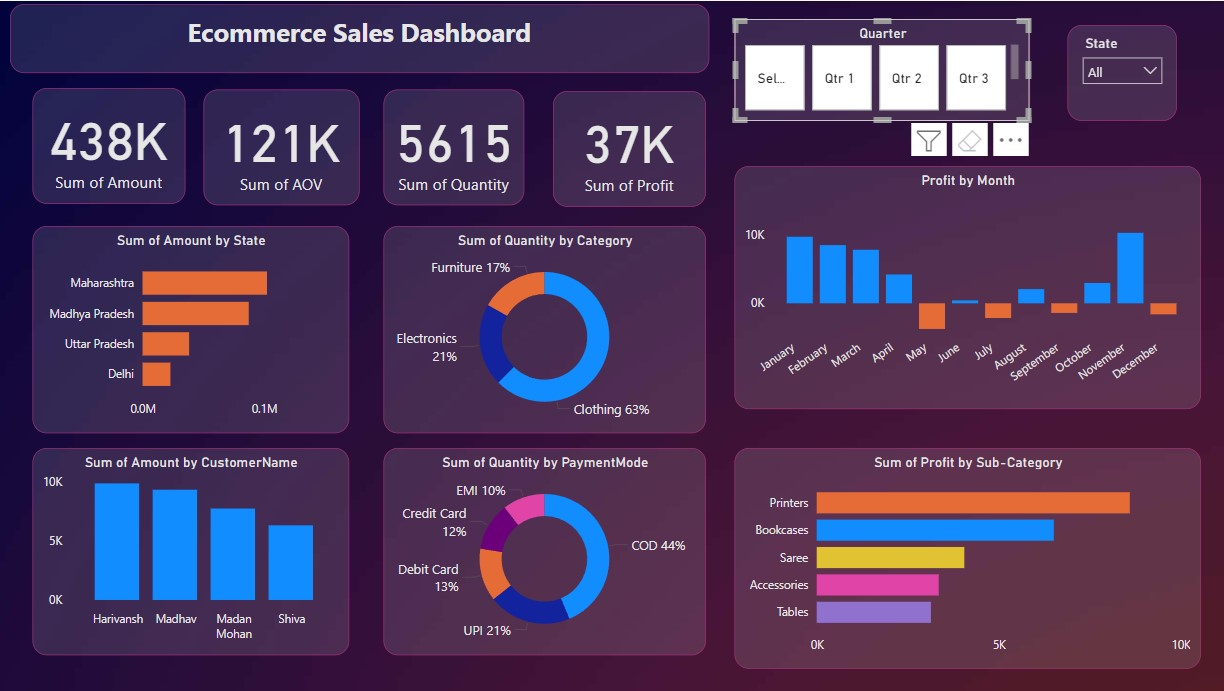

The page's visual inventory and layout, read from the dashboard file:
{"tool":"powerbi","page":{"name":"Page 1","canvas":[1280,720],"ordinal":0},"visuals":[{"type":"textbox","box":[12.5,3.1,728.4,71.9],"z":0},{"type":"columnChart","title":"Profit by Month","fields":{"Y":["Details.Profit"],"Category":["Orders.Order Date.Variation.Date Hierarchy.Month"]},"box":[767.4,171.9,486.1,253.2],"z":1000},{"type":"barChart","fields":{"Category":["Details.Sub-Category"],"Y":["Details.Profit"]},"box":[767.4,465.8,486.1,229.8],"z":2000},{"type":"donutChart","fields":{"Category":["Details.Category"],"Y":["Details.Quantity"]},"box":[401.7,235,336,215.7],"z":3000},{"type":"donutChart","fields":{"Category":["Details.PaymentMode"],"Y":["Details.Quantity"]},"box":[401.7,465.8,336,215.7],"z":4000},{"type":"card","fields":{"Values":["Details.Amount"]},"box":[35.9,90.7,159.4,120.4],"z":5000},{"type":"card","fields":{"Values":["Details.Profit"]},"box":[578.3,93.8,159.4,120.4],"z":6000},{"type":"card","fields":{"Values":["Details.Quantity"]},"box":[401.7,92.2,146.9,120.4],"z":7000},{"type":"card","fields":{"Values":["Details.AOV"]},"box":[214.1,92.2,162.6,120.4],"z":8000},{"type":"barChart","fields":{"Category":["Orders.State"],"Y":["Details.Amount"]},"box":[35.9,234.4,329.8,215.7],"z":9000},{"type":"columnChart","fields":{"Category":["Orders.CustomerName"],"Y":["Details.Amount"]},"box":[35.9,465.8,329.8,215.7],"z":10000},{"type":"advancedSlicerVisual","fields":{"Values":["Orders.Order Date.Variation.Date Hierarchy.Quarter"]},"box":[767.4,18.8,307.9,106.3],"z":11000},{"type":"slicer","fields":{"Values":["Orders.State"]},"box":[1114.4,25,114.1,100],"z":11002}]}

Visuals, with their boxes in screenshot pixels (x1, y1, x2, y2), scaled from the page's 1280x720 canvas onto the 1224x691 screenshot:
textbox: <region>12, 3, 708, 72</region>
"Profit by Month" columnChart: <region>734, 165, 1199, 408</region>
barChart - Details.Sub-Category x Details.Profit: <region>734, 447, 1199, 668</region>
donutChart - Details.Category x Details.Quantity: <region>384, 226, 705, 433</region>
donutChart - Details.PaymentMode x Details.Quantity: <region>384, 447, 705, 654</region>
card - Details.Amount: <region>34, 87, 187, 203</region>
card - Details.Profit: <region>553, 90, 705, 206</region>
card - Details.Quantity: <region>384, 88, 525, 204</region>
card - Details.AOV: <region>205, 88, 360, 204</region>
barChart - Orders.State x Details.Amount: <region>34, 225, 350, 432</region>
columnChart - Orders.CustomerName x Details.Amount: <region>34, 447, 350, 654</region>
advancedSlicerVisual - Orders.Order Date.Variation.Date Hierarchy.Quarter: <region>734, 18, 1028, 120</region>
slicer - Orders.State: <region>1066, 24, 1175, 120</region>
